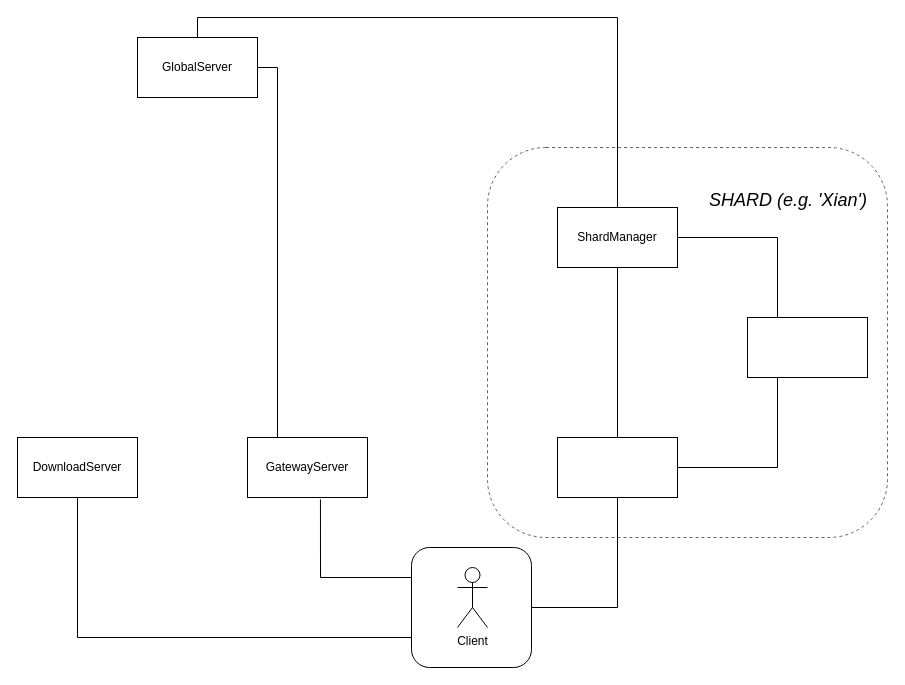
The diagram is 905 pixels wide and 685 high, and some of its shapes have lost their labels. The shapes that lost their labels are listed below. From the top down, each one's centre as x and y in pixels, then its label:
At (807,347): "GameServer".
At (617,467): "AgentServer".
